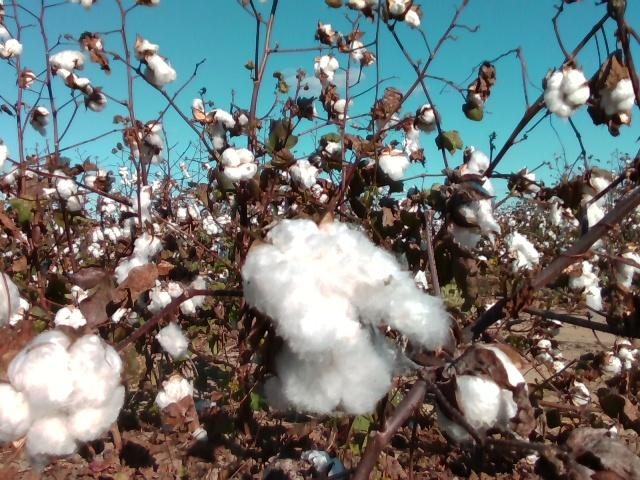cotton_ready: (242, 212, 451, 415), (0, 327, 126, 463), (438, 342, 527, 445), (452, 169, 502, 248), (115, 231, 164, 284), (193, 96, 234, 151), (594, 65, 636, 118), (541, 69, 587, 117), (137, 38, 178, 89), (568, 262, 607, 315), (499, 232, 541, 276), (585, 169, 614, 228), (50, 50, 91, 91), (154, 376, 197, 414), (219, 149, 259, 185), (302, 448, 347, 480), (0, 266, 22, 328), (156, 325, 189, 359), (380, 144, 408, 184), (129, 119, 163, 151), (615, 250, 640, 288), (290, 160, 320, 191)
